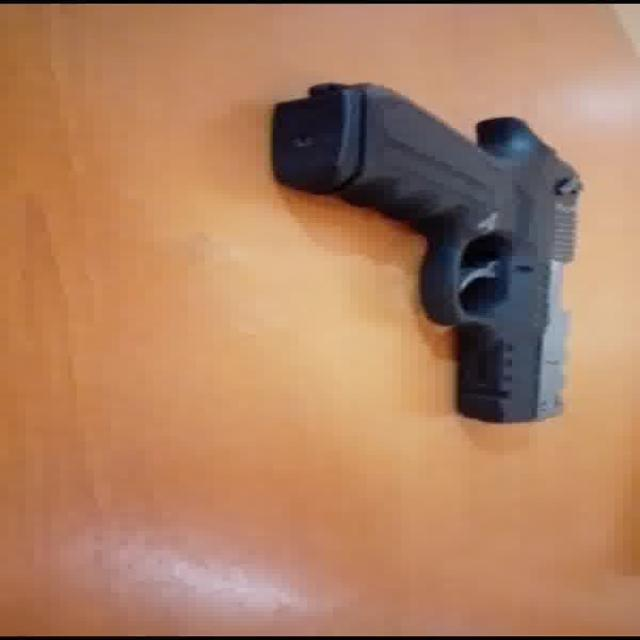weapon: (269, 81, 584, 424)
